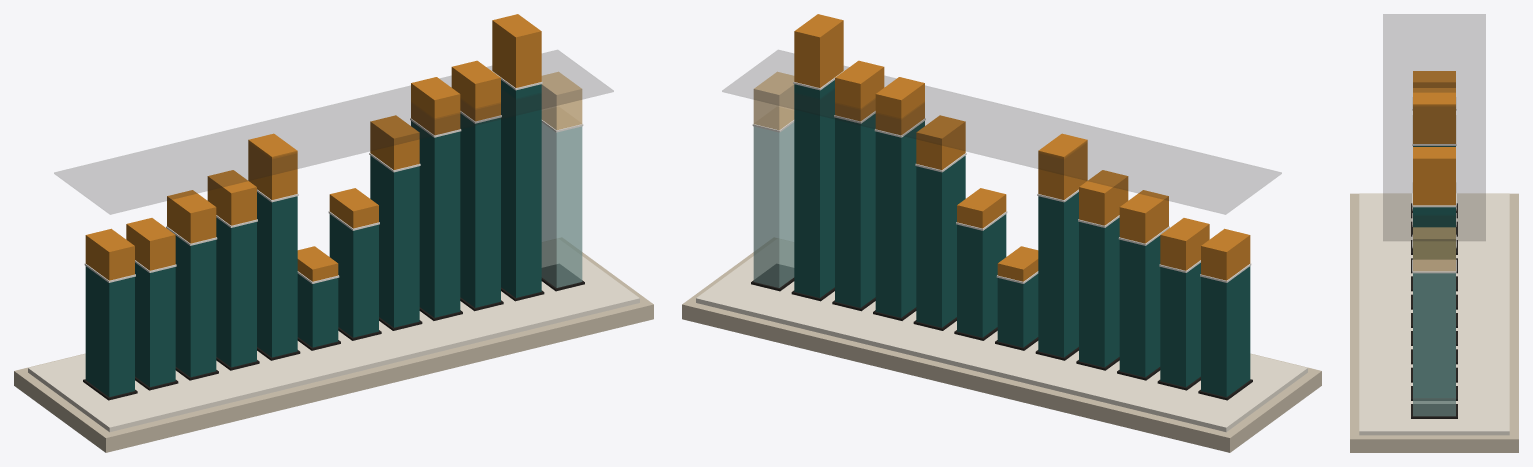
File: escena_2_turistas_barras3d.glb
The picture shows the model from 3 angles, left to right: view 1: azimuth 30°, elevation 25°; view 2: azimuth 150°, elevation 25°; view 3: azimuth 270°, elevation 25°; orthographic projection. The views are drawn at different scales.
Size of the model in its own units: 1.24 by 0.61 by 0.36.
